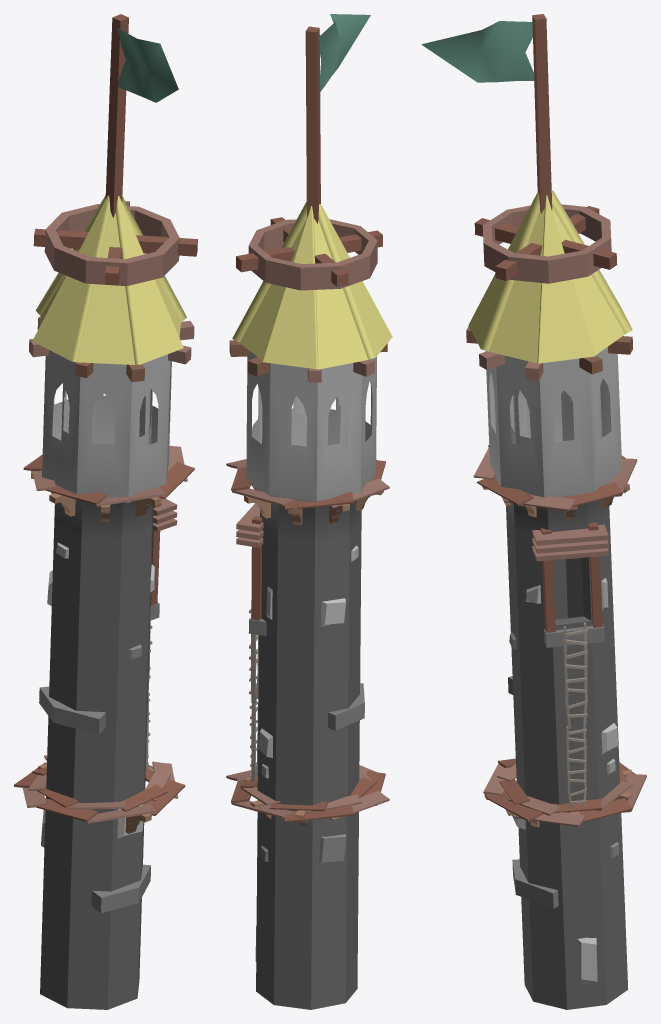
File: Enviroment toren rechts.fbx
The picture shows the model from 3 angles, left to right: view 1: azimuth 30°, elevation 25°; view 2: azimuth 150°, elevation 25°; view 3: azimuth 270°, elevation 25°; orthographic projection. The views are drawn at different scales.
Visible parts, largest first — view 1: WATCH_TOWER_2_RECHTS; view 2: WATCH_TOWER_2_RECHTS; view 3: WATCH_TOWER_2_RECHTS.
Part boxes in pixels (x1=…): WATCH_TOWER_2_RECHTS: x1=14, y1=14, x2=197, y2=1009; WATCH_TOWER_2_RECHTS: x1=226, y1=14, x2=392, y2=1009; WATCH_TOWER_2_RECHTS: x1=421, y1=14, x2=646, y2=1009.
Bounding box in the file's own units: 15.04 × 87.36 × 18.29.
